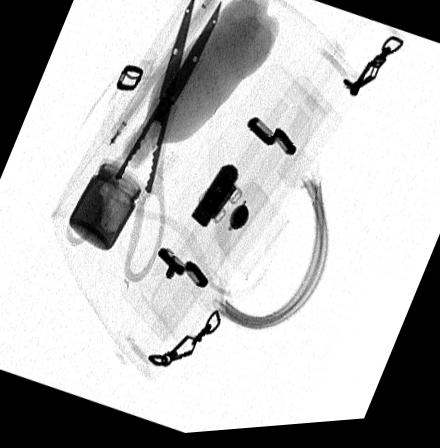Scissors: (65, 0, 225, 289)
